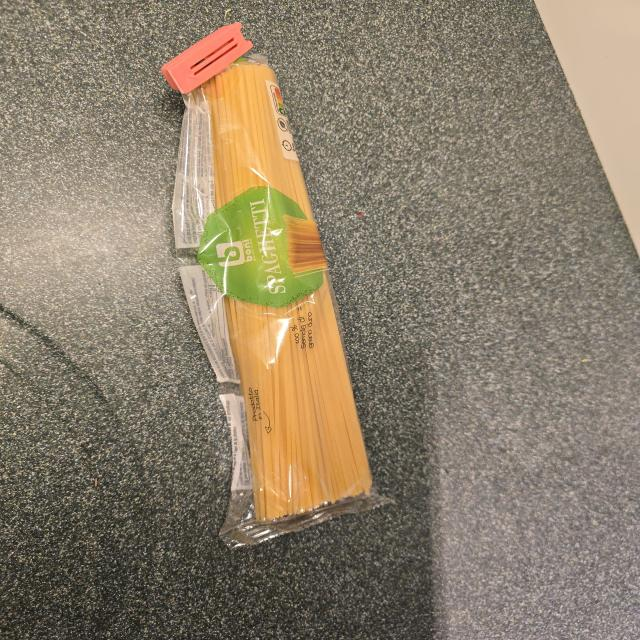Pasta: (166, 46, 384, 554)
